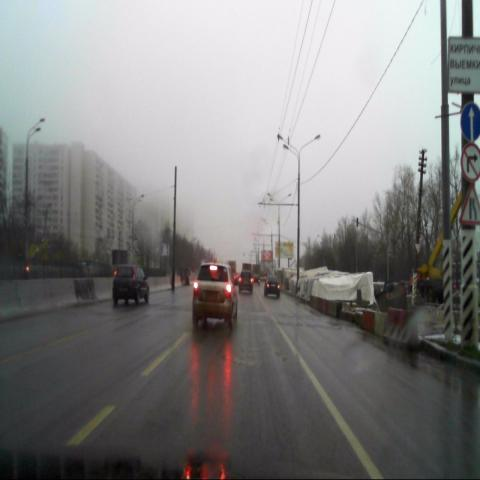3_18: (460, 144, 480, 183)
